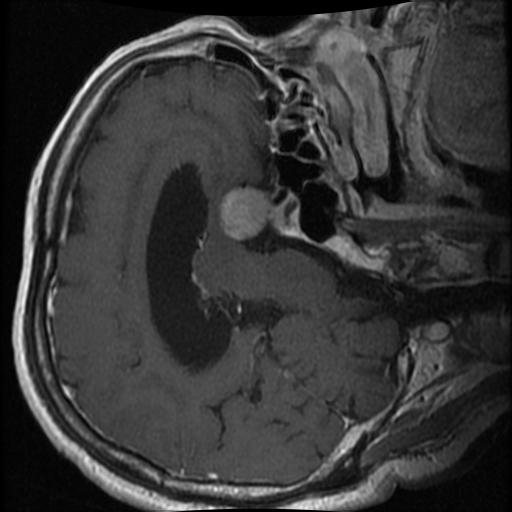pituitary tumour: (216, 186, 271, 241)
